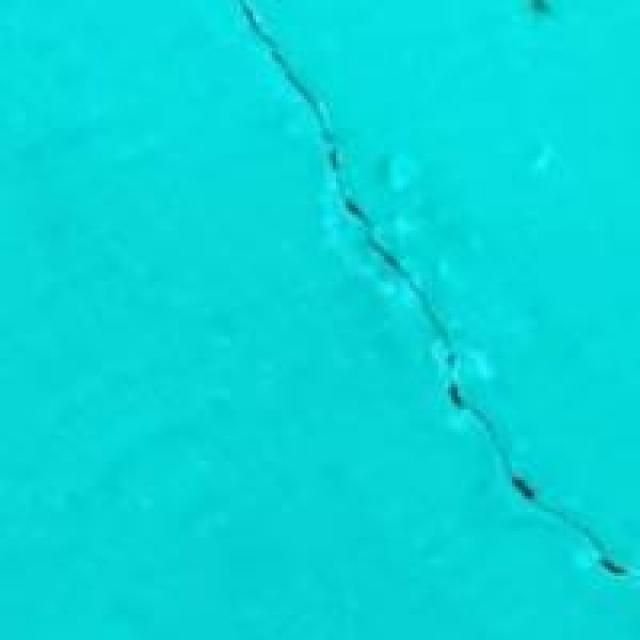Crack: (240, 0, 637, 608)
